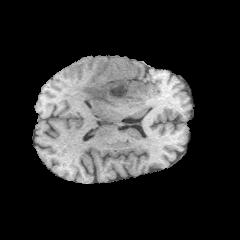glioma: (78, 63, 147, 106)
